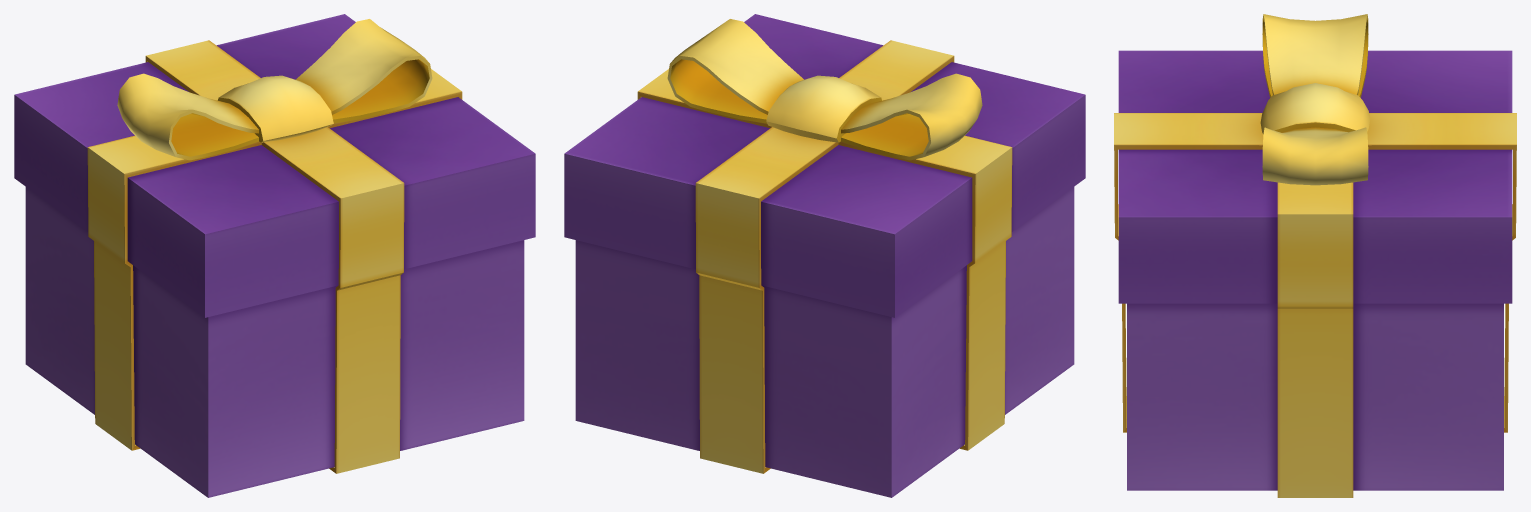
Rendered from giftbox.gltf.
The picture shows the model from 3 angles, left to right: view 1: azimuth 30°, elevation 25°; view 2: azimuth 150°, elevation 25°; view 3: azimuth 270°, elevation 25°; orthographic projection. The views are drawn at different scales.
Visible parts, largest first — view 1: giftbox; view 2: giftbox; view 3: giftbox.
Boxes of the visible parts, x1,y1,x2,y2 form: giftbox: (14,14,535,497); giftbox: (564,14,1085,497); giftbox: (1114,14,1516,497).
Bounding box in the file's own units: 0.9434 × 0.8869 × 0.9434.
1 material, 1 textured.
